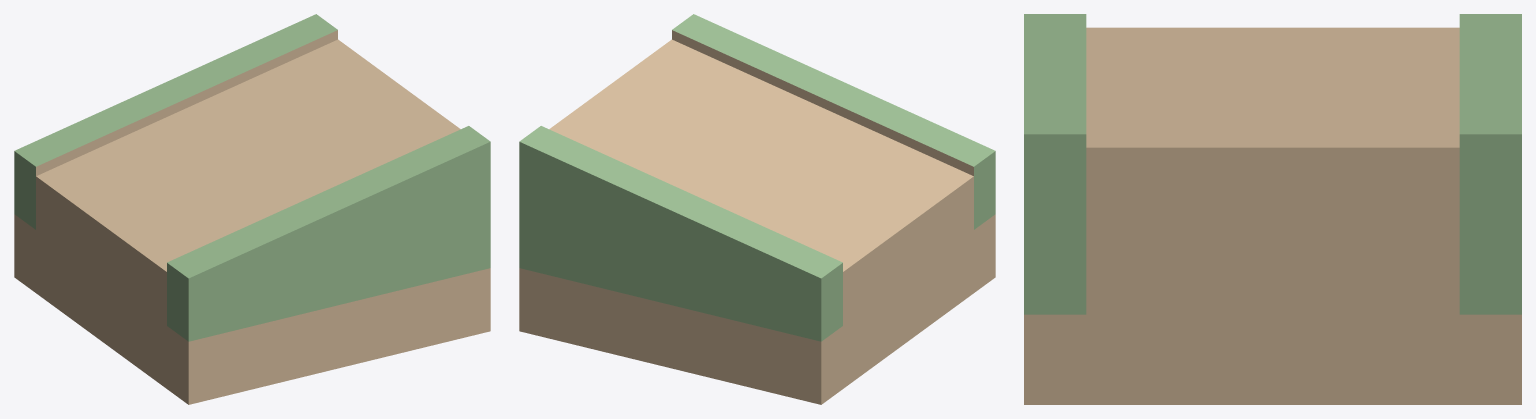
The model's file is tile_104.glb.
The picture shows the model from 3 angles, left to right: view 1: azimuth 30°, elevation 25°; view 2: azimuth 150°, elevation 25°; view 3: azimuth 270°, elevation 25°; orthographic projection. The views are drawn at different scales.
Visible parts, largest first — view 1: tile_104; view 2: tile_104; view 3: tile_104.
Part boxes in pixels (bbox=[...]): tile_104: bbox=[14, 14, 490, 404]; tile_104: bbox=[519, 14, 995, 404]; tile_104: bbox=[1024, 14, 1521, 404].
Size of the model in its own units: 1 by 0.6 by 1.
